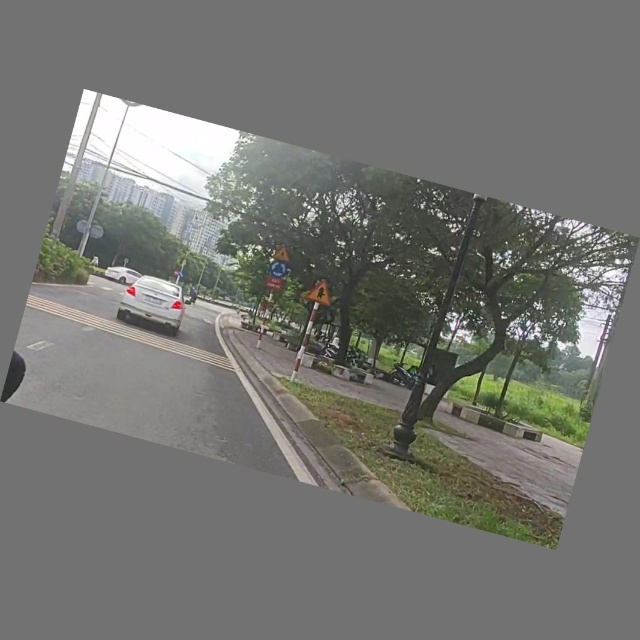P.102: (172, 270, 180, 278)
R.302a: (178, 272, 185, 281)
R.303: (267, 259, 290, 281)
W.207: (302, 277, 336, 308)
W.224: (272, 246, 293, 263)
